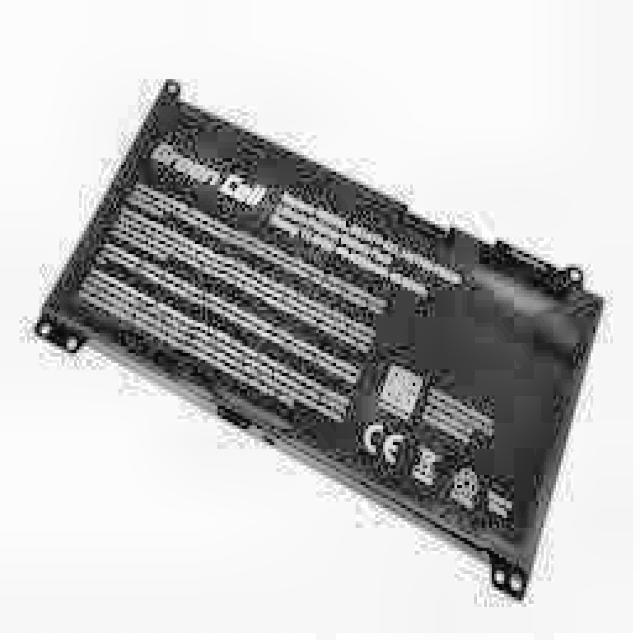Battery: (39, 99, 606, 581)
